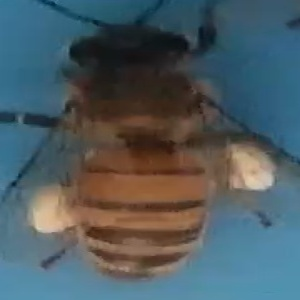bee: (7, 1, 290, 288)
